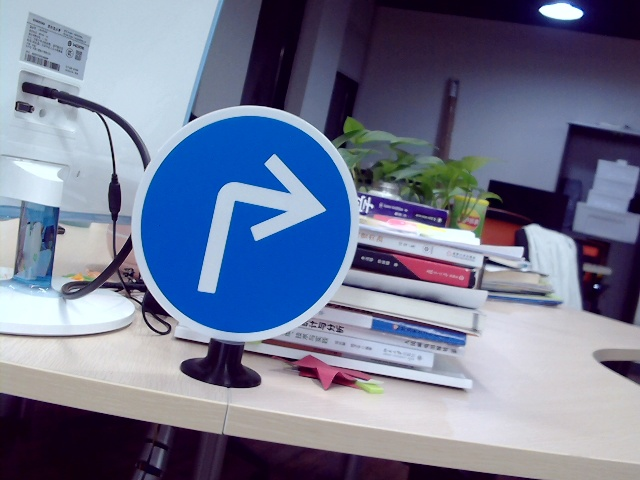turn_right: (198, 150, 325, 312)
